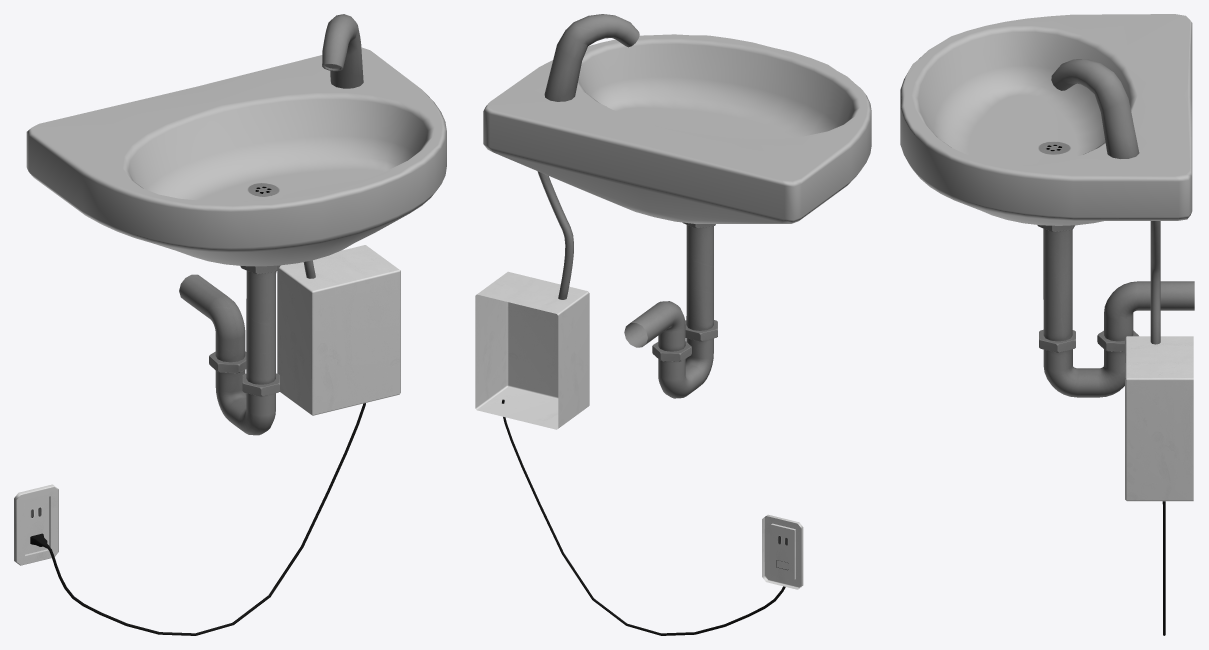
Rendered from Sink_02.FBX.
The picture shows the model from 3 angles, left to right: view 1: azimuth 30°, elevation 25°; view 2: azimuth 150°, elevation 25°; view 3: azimuth 270°, elevation 25°; orthographic projection. The views are drawn at different scales.
Visible parts, largest first — view 1: Sink_01; view 2: Sink_01; view 3: Sink_01.
Part boxes in pixels (box(x1,y1,x2,y2)): Sink_01: box(14, 14, 446, 635); Sink_01: box(475, 14, 871, 635); Sink_01: box(900, 14, 1194, 635).
Bounding box in the file's own units: 61.93 × 103 × 45.39.
